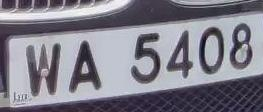0: (194, 22, 227, 80)
4: (165, 27, 197, 85)
5: (126, 28, 164, 89)
8: (227, 20, 258, 73)
A: (66, 34, 107, 100)
W: (23, 37, 65, 102)
